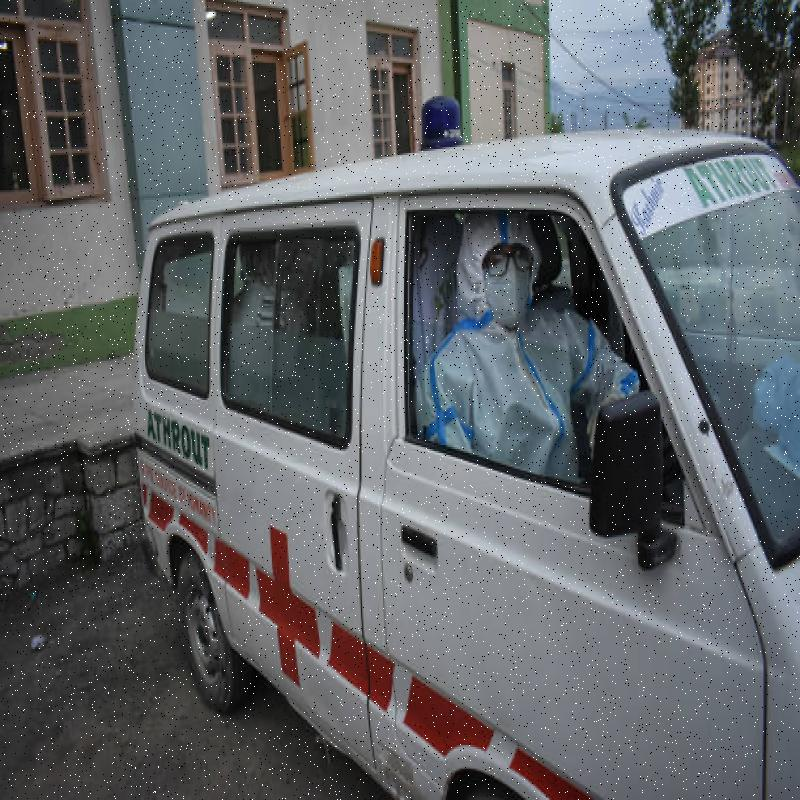ambulance: (98, 117, 800, 766)
